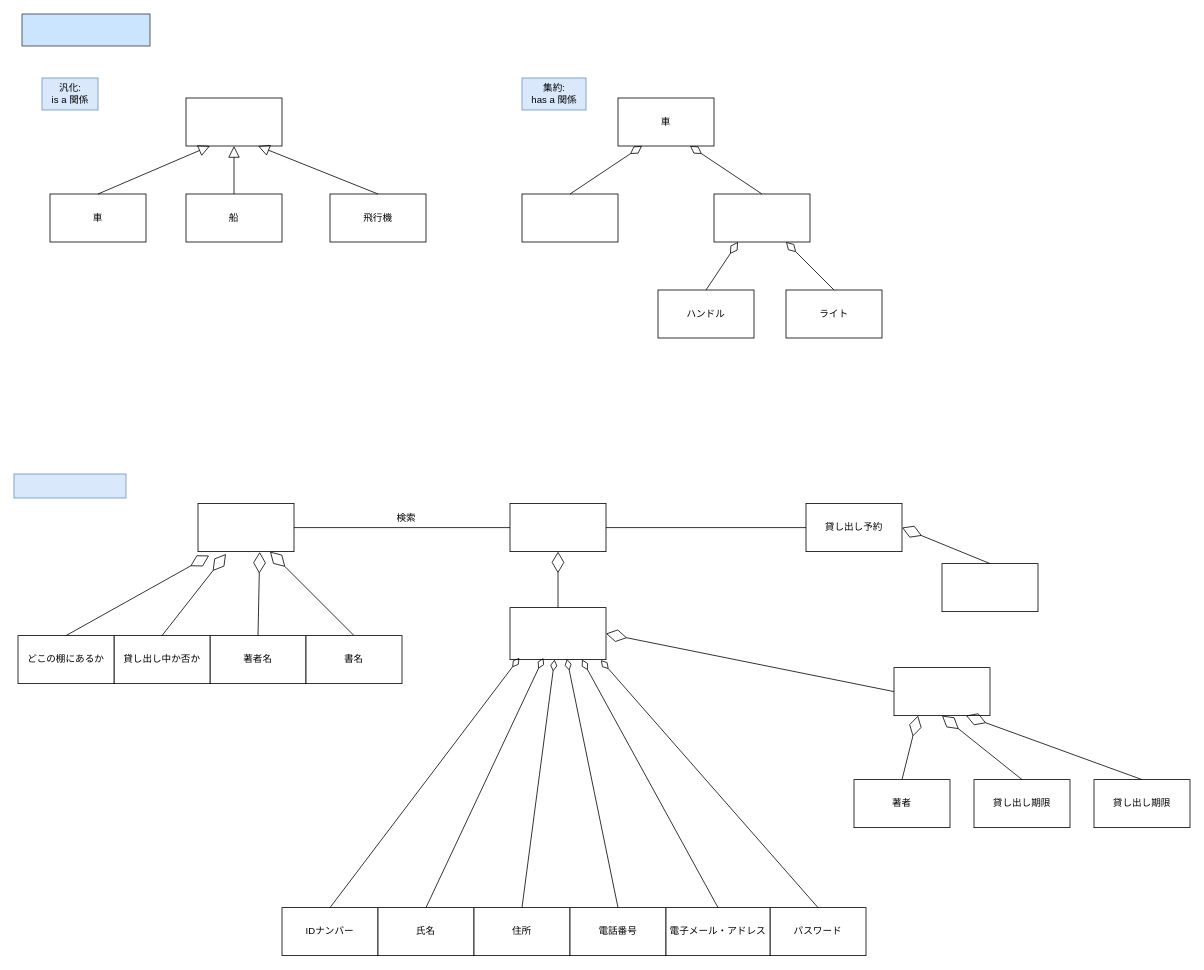
Some shapes in this 1204 by 970 pixel diagram are drawn without their labels. Each missing label, with the centre of its shape:
"エンジン" belongs at point 569,217.
"ドメインモデル" belongs at point 85,29.
"ボディ" belongs at point 761,217.
"乗り物" belongs at point 233,121.
"借りている本" belongs at point 941,691.
"利用者" belongs at point 557,527.
"図書" belongs at point 245,527.
"図書カード" belongs at point 557,633.
"図書貸し出しシステム" belongs at point 69,485.
"必要事項" belongs at point 989,587.
